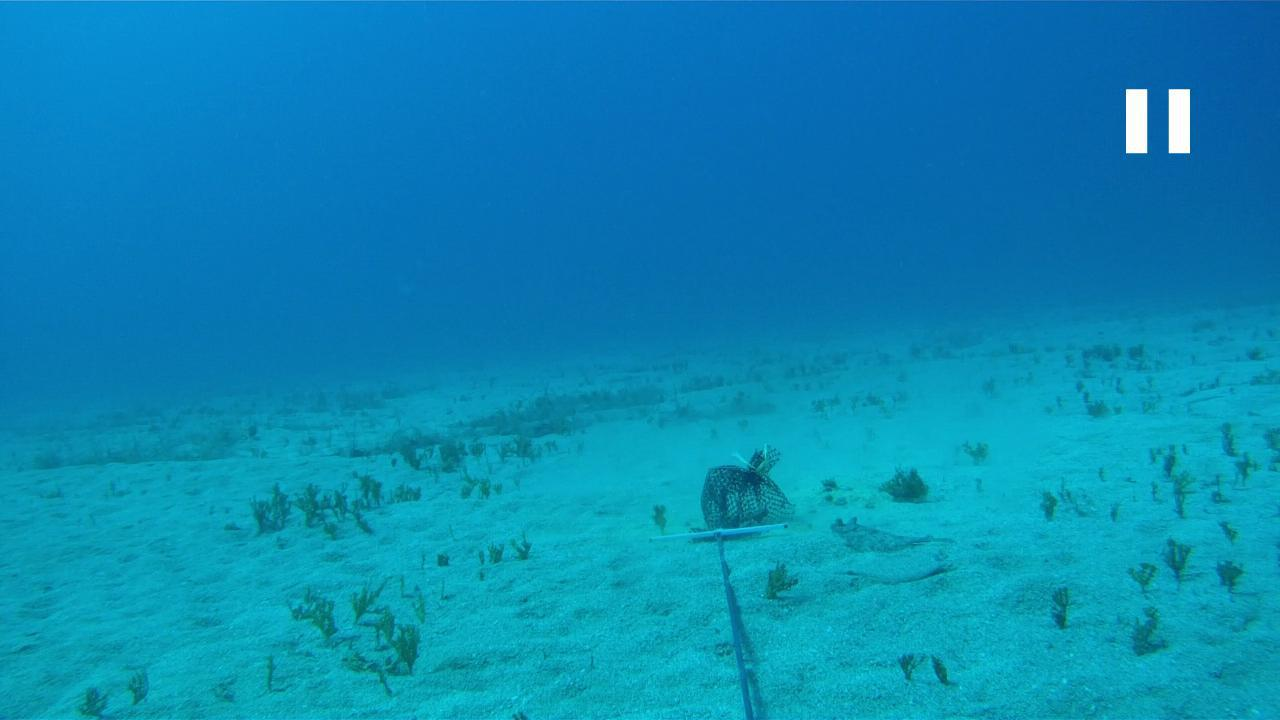bothus: (812, 549, 954, 582), (826, 514, 954, 550)
